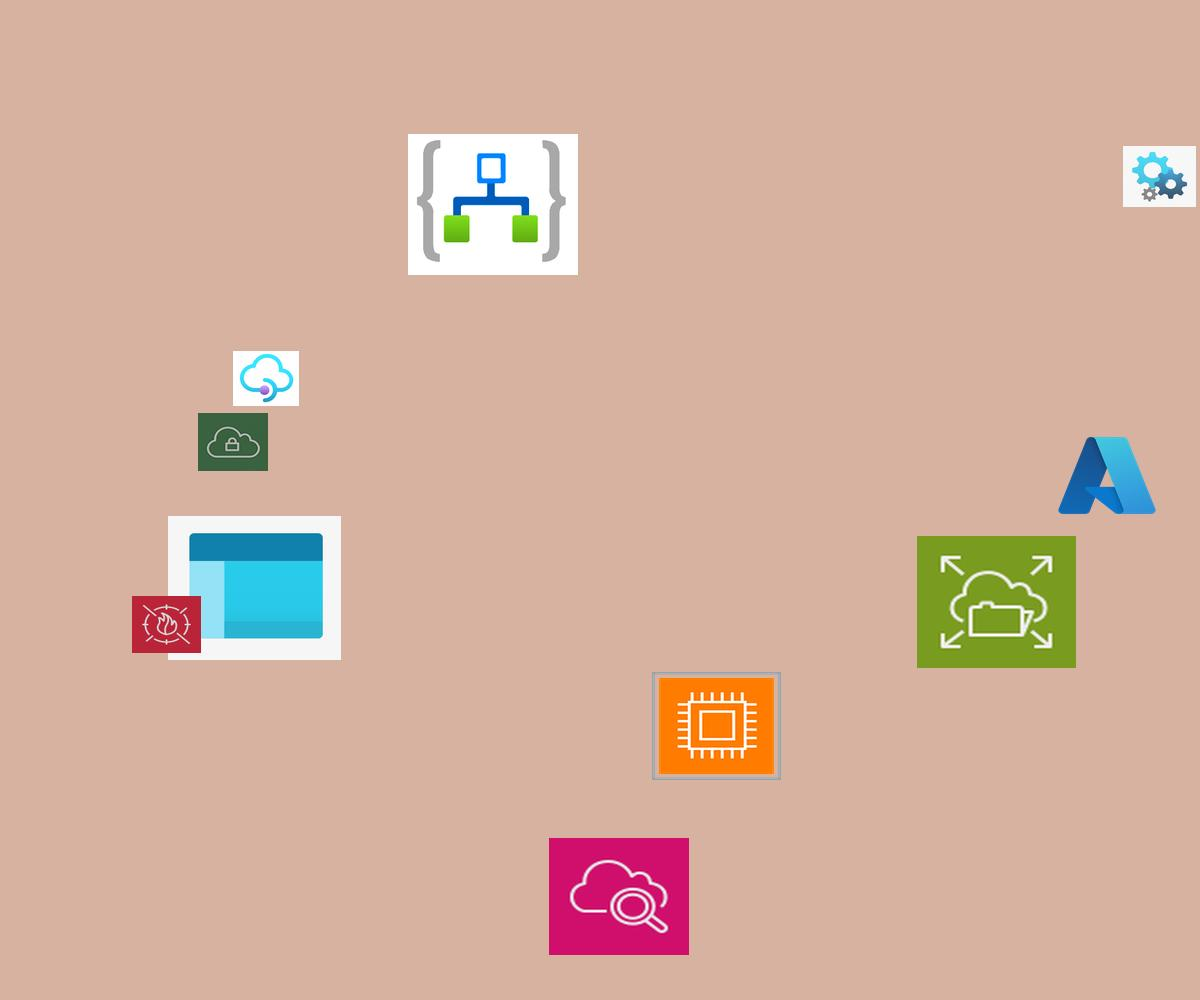AWS-Category_Compute: (652, 672, 781, 780)
AWS-CloudWatch: (549, 838, 689, 955)
AWS-EFS: (917, 536, 1076, 668)
AWS-Private_vpc: (198, 413, 268, 471)
AWS-WAF: (132, 596, 201, 653)
Azure_api: (1123, 146, 1196, 207)
Azure_api_gateway: (233, 351, 299, 406)
Azure_integration-204-Logic-Apps: (408, 134, 578, 275)
Azure_management-portal: (168, 516, 341, 660)
Azure_services: (1054, 431, 1160, 520)
